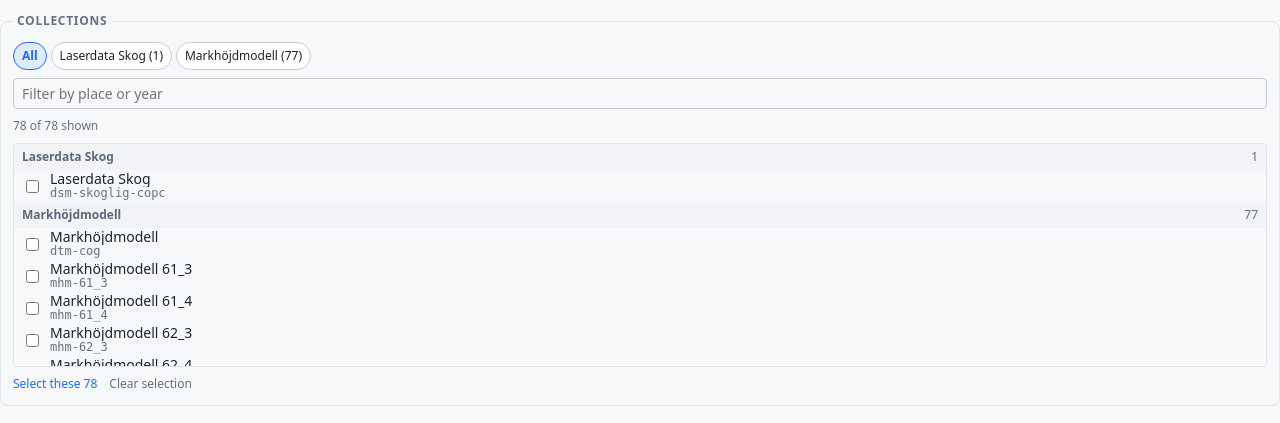
Test: product grouping › narrows the list to the chosen product
Click the button "Laserdata Skog (1)". click: (111, 56)
box: [51,42,172,70]
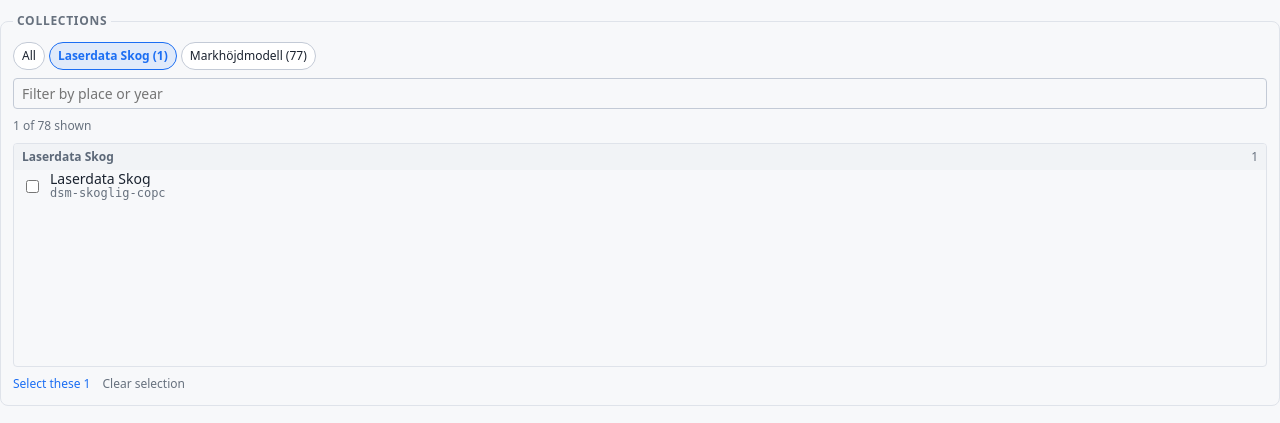
expect the message with class "status" shows "1 of 78": met, box [13,117,91,134]
